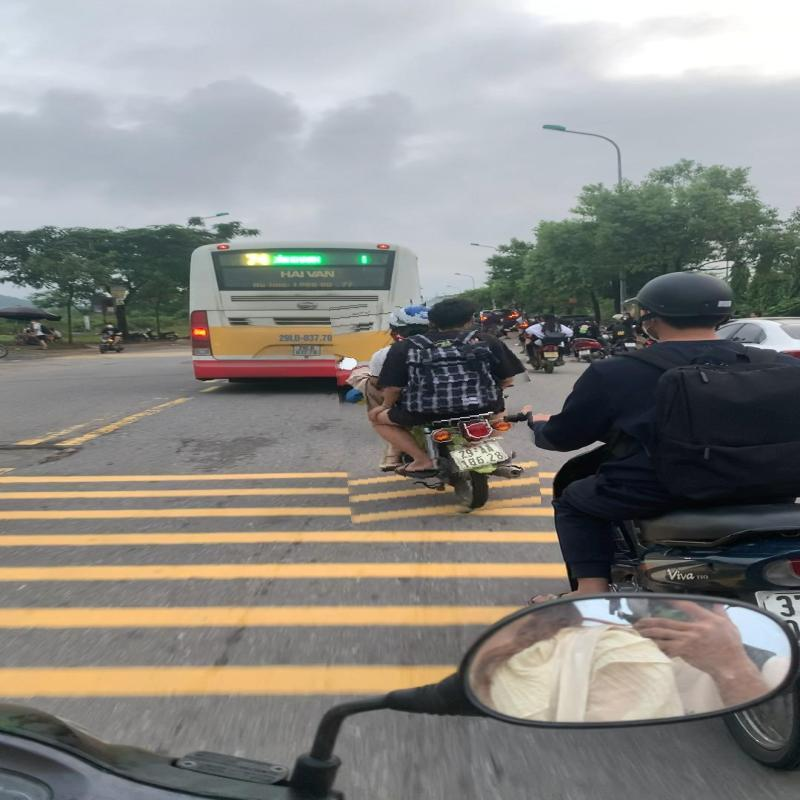helmet: (393, 303, 435, 328)
licenseplate: (447, 440, 512, 472)
motorcyclist: (335, 293, 536, 520)
nohelmet: (426, 296, 481, 332)
